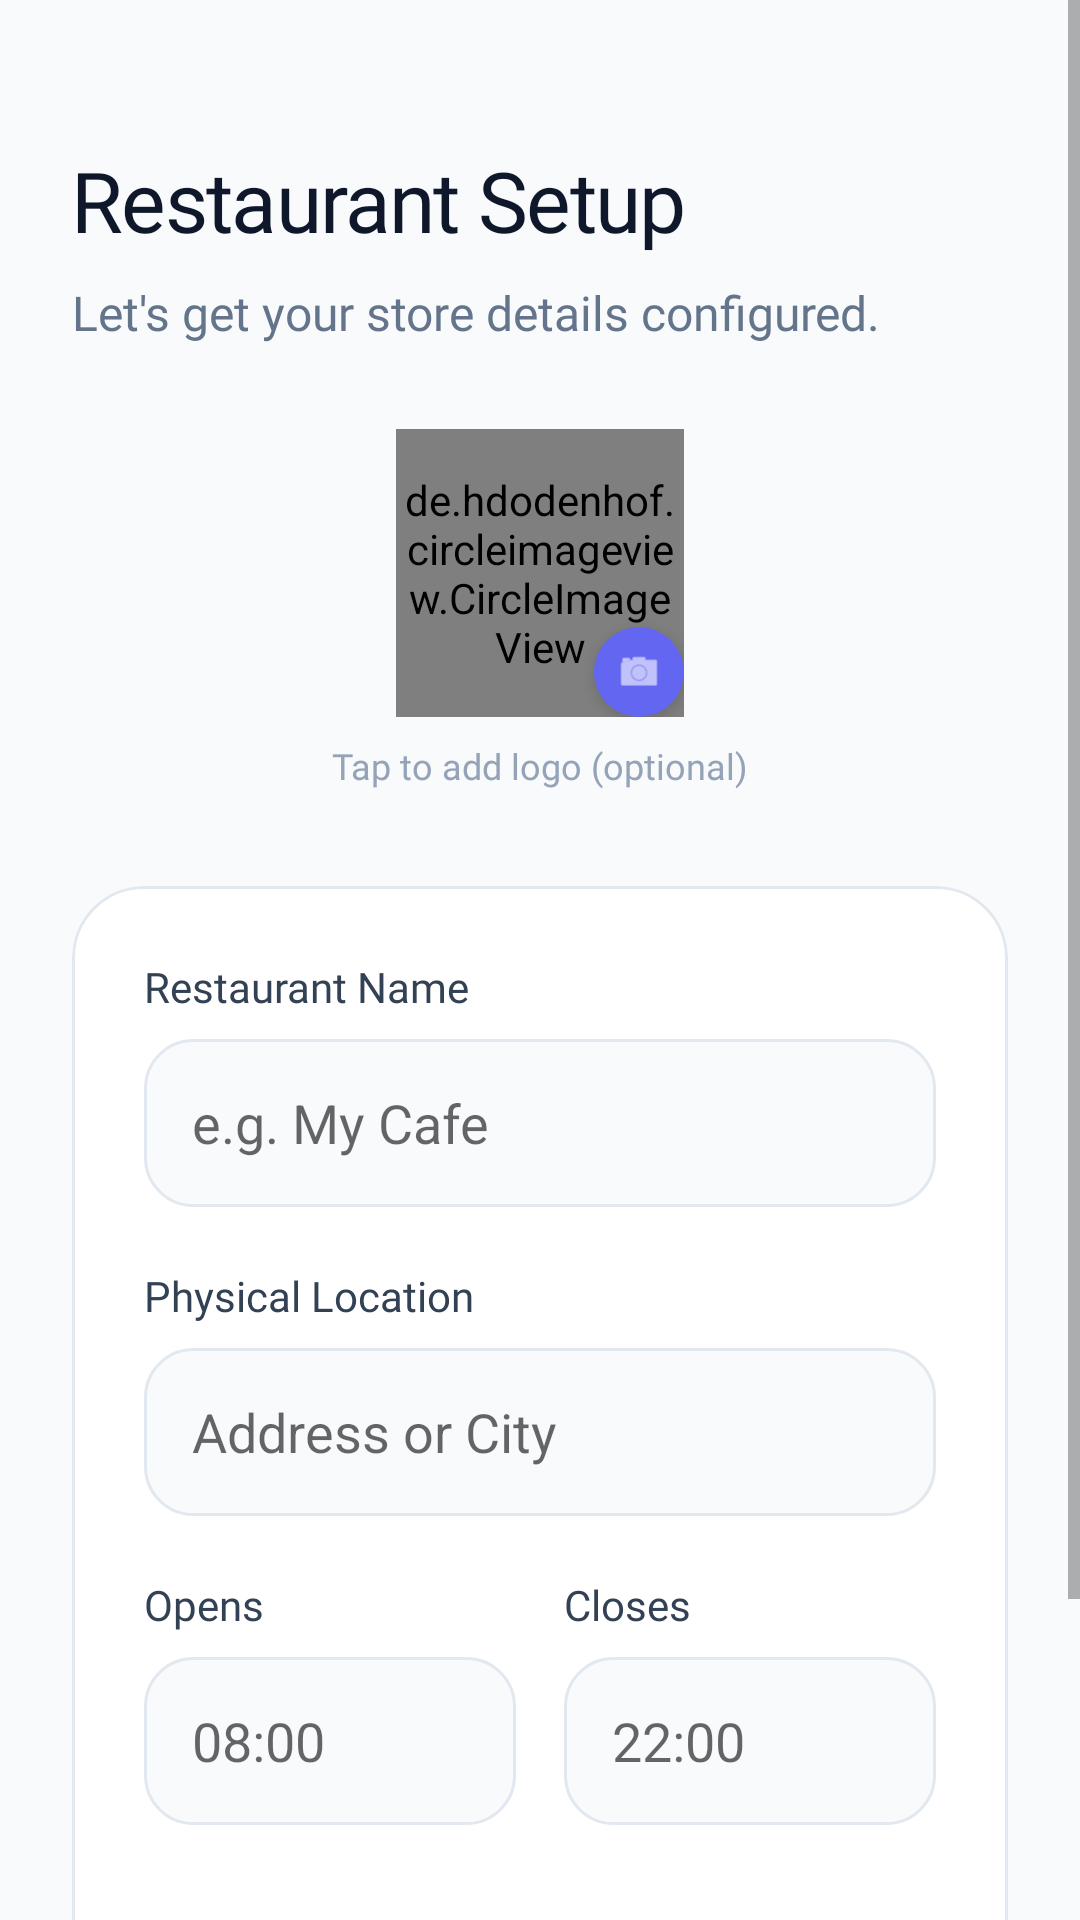

Point at icon controls on the screen. Image size 1080 x 1920, points as point (x, y).
camera: point (639, 671)
